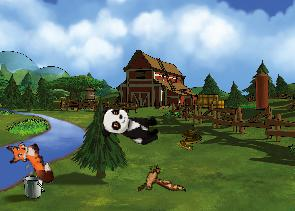eagle: (131, 157, 186, 205)
fox: (2, 132, 57, 194)
panda: (98, 105, 162, 146)
